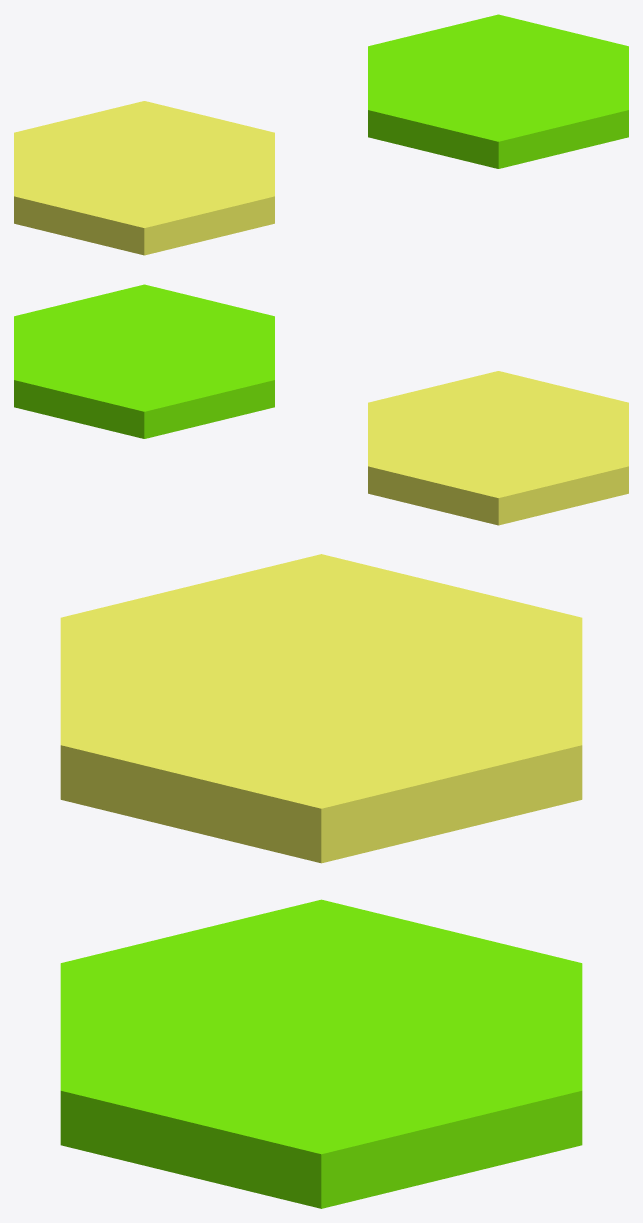
The model's file is hex-tiles.dae.
The picture shows the model from 3 angles, top to bottom: view 1: azimuth 30°, elevation 25°; view 2: azimuth 150°, elevation 25°; view 3: azimuth 270°, elevation 25°; orthographic projection. The views are drawn at different scales.
Visible parts, largest first — view 1: C_T_DEFAULT_TILE, C_T_GRASS_TILE; view 2: C_T_DEFAULT_TILE, C_T_GRASS_TILE; view 3: C_T_DEFAULT_TILE, C_T_GRASS_TILE.
Boxes of the visible parts, <box> form: C_T_DEFAULT_TILE: <box>14,101,274,255</box>; C_T_GRASS_TILE: <box>368,14,628,168</box>; C_T_DEFAULT_TILE: <box>368,371,628,525</box>; C_T_GRASS_TILE: <box>14,284,274,438</box>; C_T_DEFAULT_TILE: <box>60,554,582,863</box>; C_T_GRASS_TILE: <box>60,899,582,1208</box>.
Bounding box in the file's own units: 92.78 × 34.1 × 3.94.
